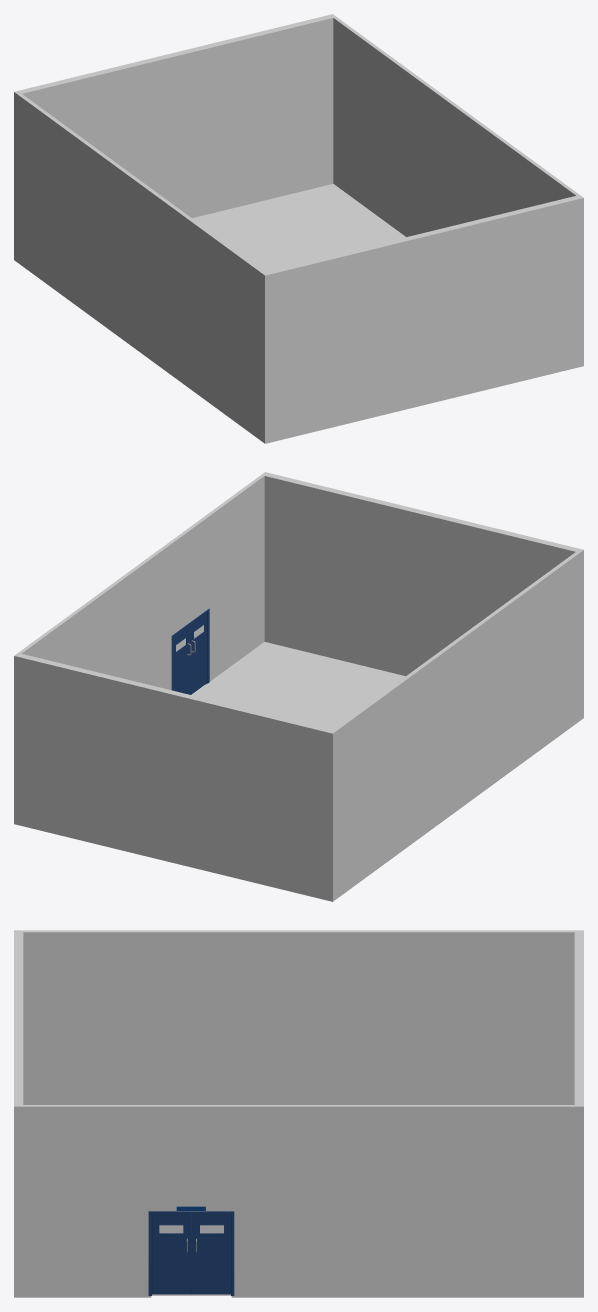
Rendered from Washing Room.fbx.
3 renders of one model, top to bottom at view 1: azimuth 30°, elevation 25°; view 2: azimuth 150°, elevation 25°; view 3: azimuth 270°, elevation 25°, orthographic. The views are drawn at different scales.
Parts seen in each view (by area): view 1: _floor_3; view 2: _floor_3, _door4, _door1; view 3: _floor_3, _door4, _door1, _doorframe.
Part boxes in pixels (left/top/right/bottom): _floor_3: left=14, top=14, right=583, bottom=443; _floor_3: left=14, top=472, right=583, bottom=901; _door4: left=190, top=612, right=207, bottom=694; _door1: left=173, top=625, right=189, bottom=694; _floor_3: left=14, top=930, right=583, bottom=1297; _door4: left=152, top=1213, right=191, bottom=1294; _door1: left=191, top=1213, right=230, bottom=1294; _doorframe: left=148, top=1211, right=234, bottom=1295.
Size of the model in its own units: 817 by 409 by 1106.
Materials: 6 (1 with a texture image).
